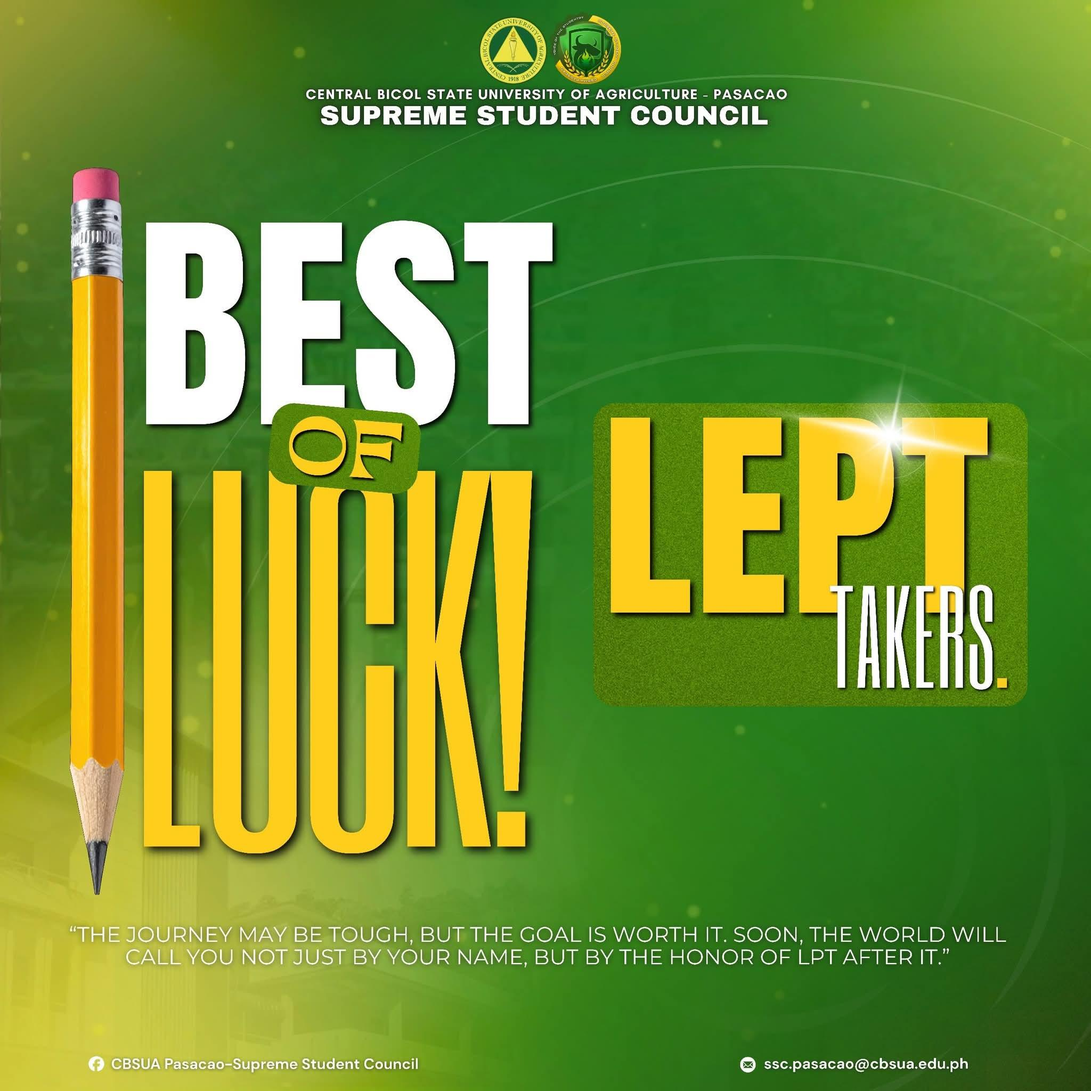embellishment: (67, 165, 127, 900), (736, 1053, 759, 1074), (86, 1054, 107, 1075)
logo: (548, 10, 628, 86), (475, 13, 550, 89)
text: (135, 213, 536, 859), (602, 411, 1017, 697), (64, 918, 1012, 974), (302, 81, 792, 131), (109, 1054, 422, 1074), (760, 1056, 975, 1073)
underlay: (592, 400, 1030, 706)
